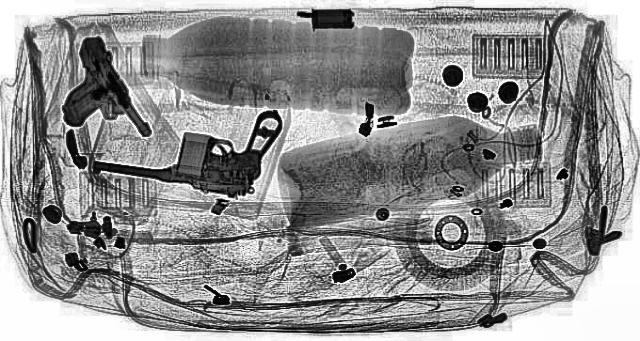Gun: (82, 94, 286, 196), (26, 34, 154, 142)
